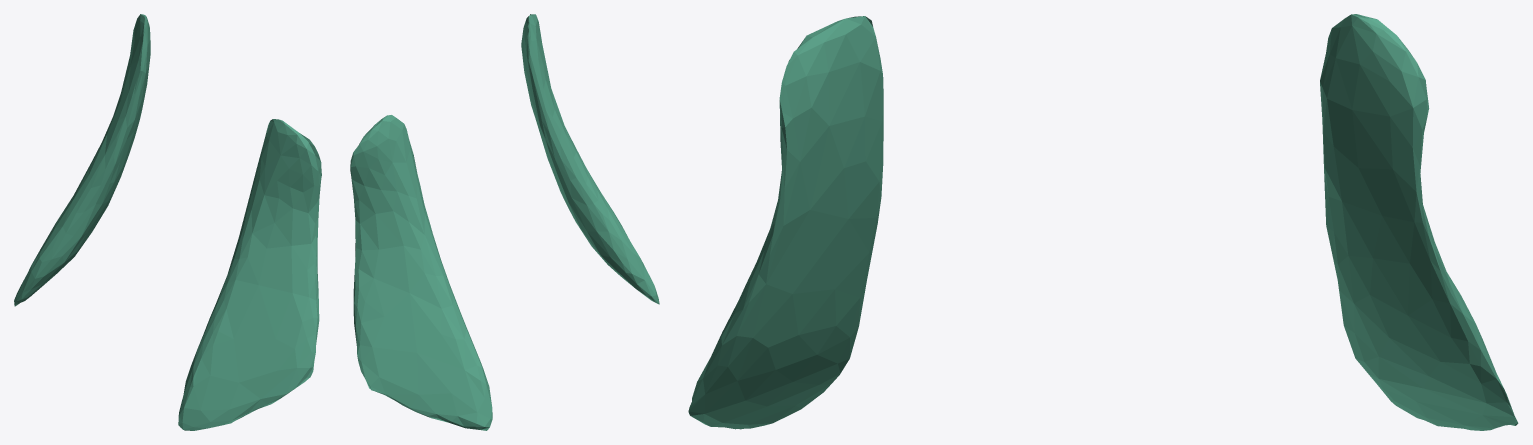
3 renders of one model, left to right at view 1: azimuth 30°, elevation 25°; view 2: azimuth 150°, elevation 25°; view 3: azimuth 270°, elevation 25°, orthographic. The views are drawn at different scales.
Visible parts, largest first — view 1: 910.obj; view 2: 910.obj; view 3: 910.obj.
Boxes of the visible parts, x1,y1,x2,y2 form: 910.obj: (14,14,321,430); 910.obj: (350,14,659,430); 910.obj: (688,14,1518,430).
Bounding box in the file's own units: 762 × 1432 × 2130.
